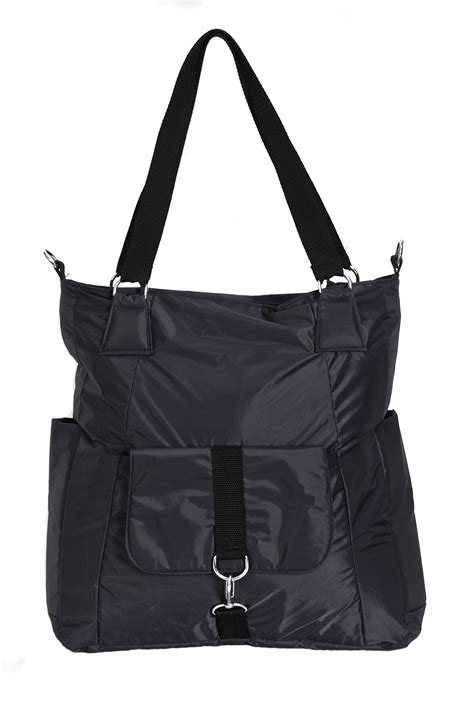nylon: (44, 275, 428, 652)
